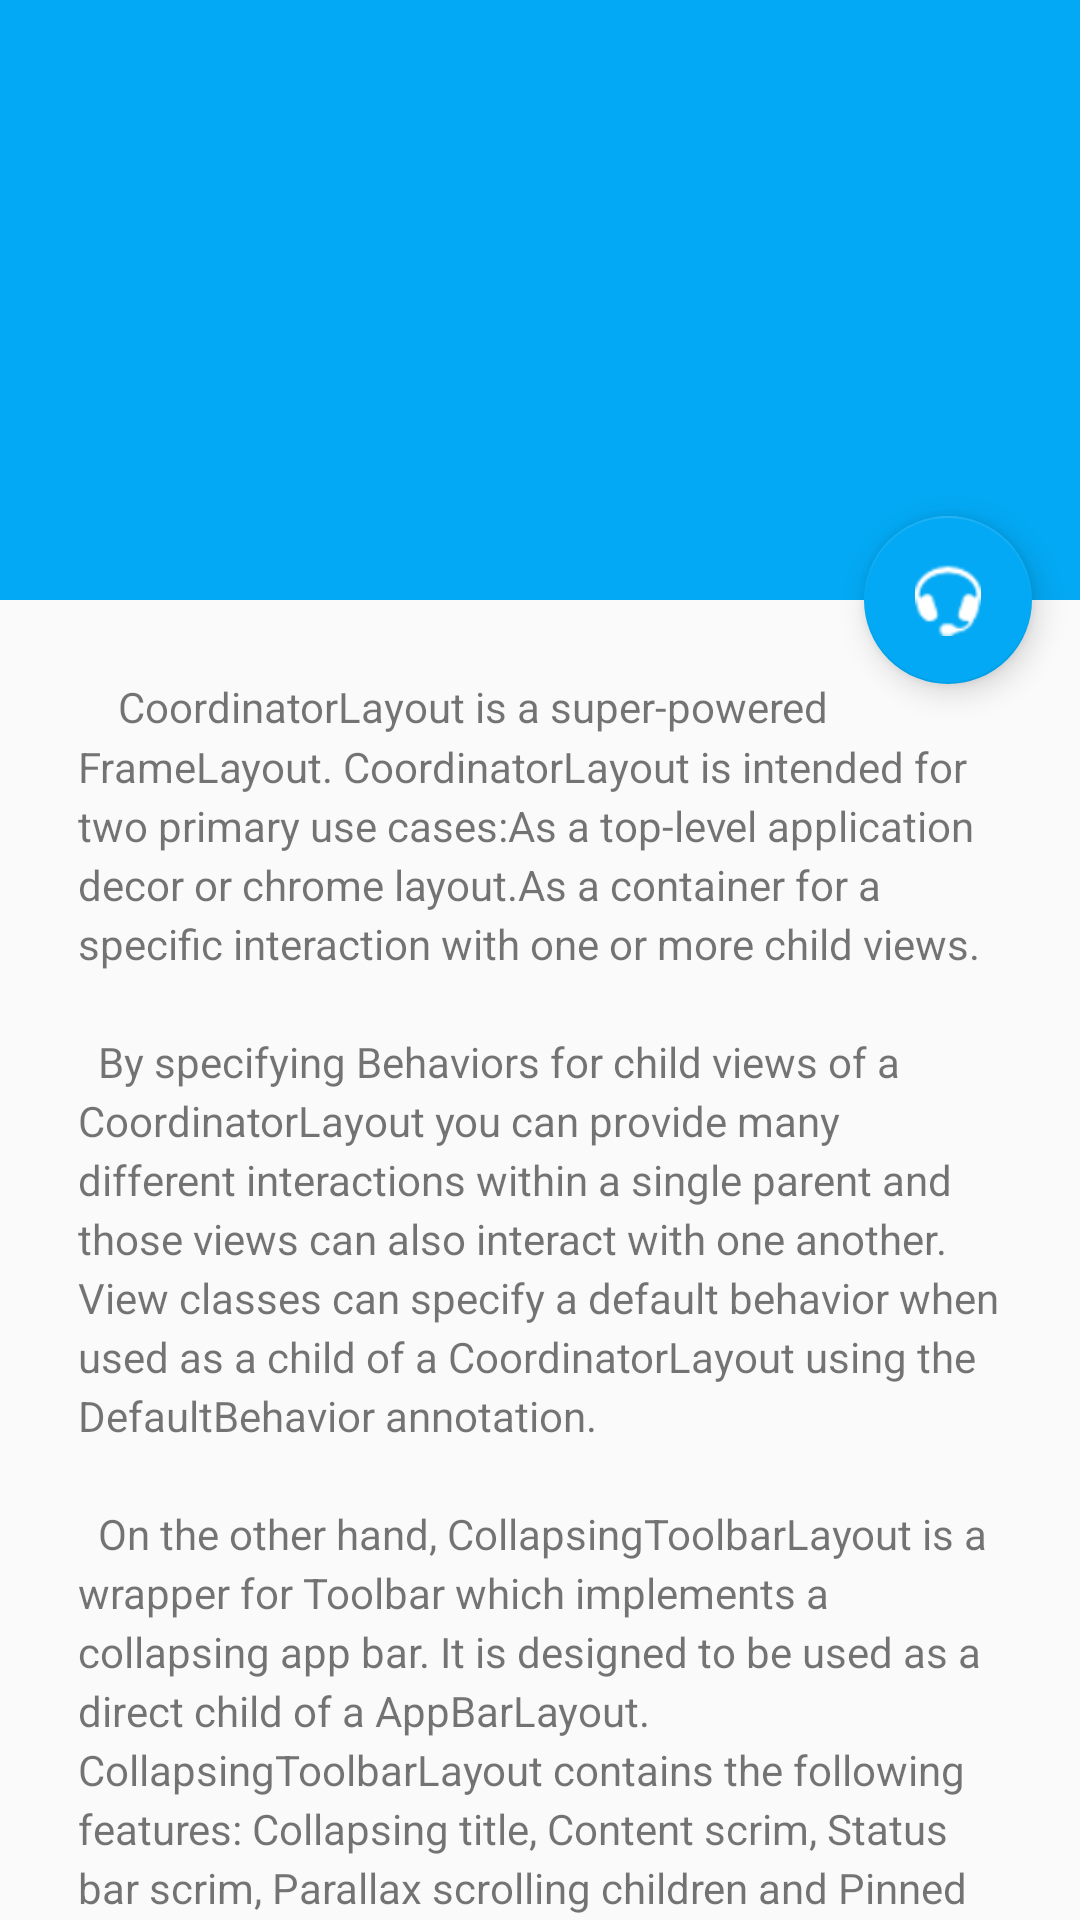

Icons on this 1080px x 1920px Android screen, each with the point to tap as point (x, y):
headset: point (948, 600)
